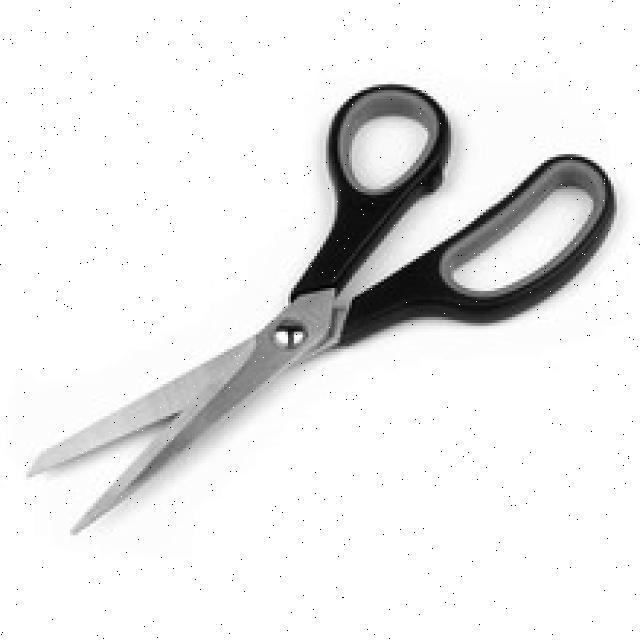scissors: (22, 76, 622, 540)
